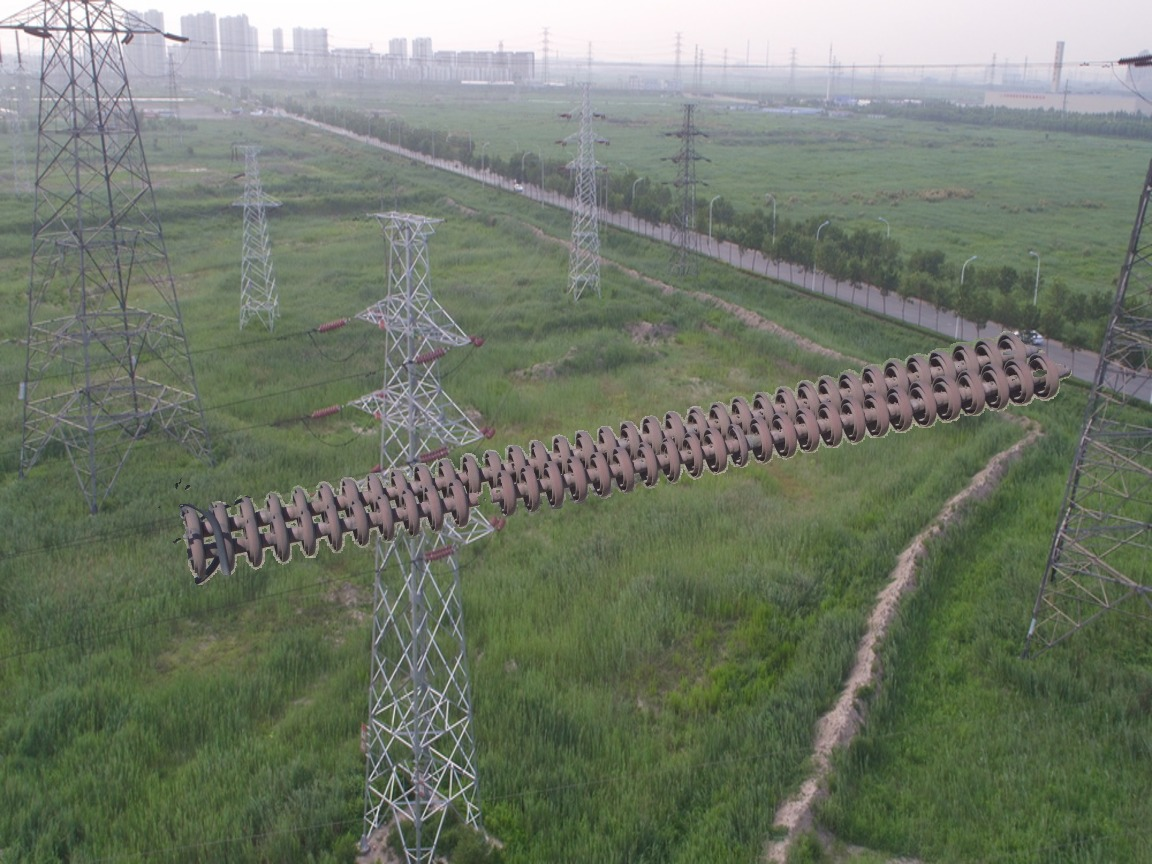defect: (443, 470, 526, 527)
